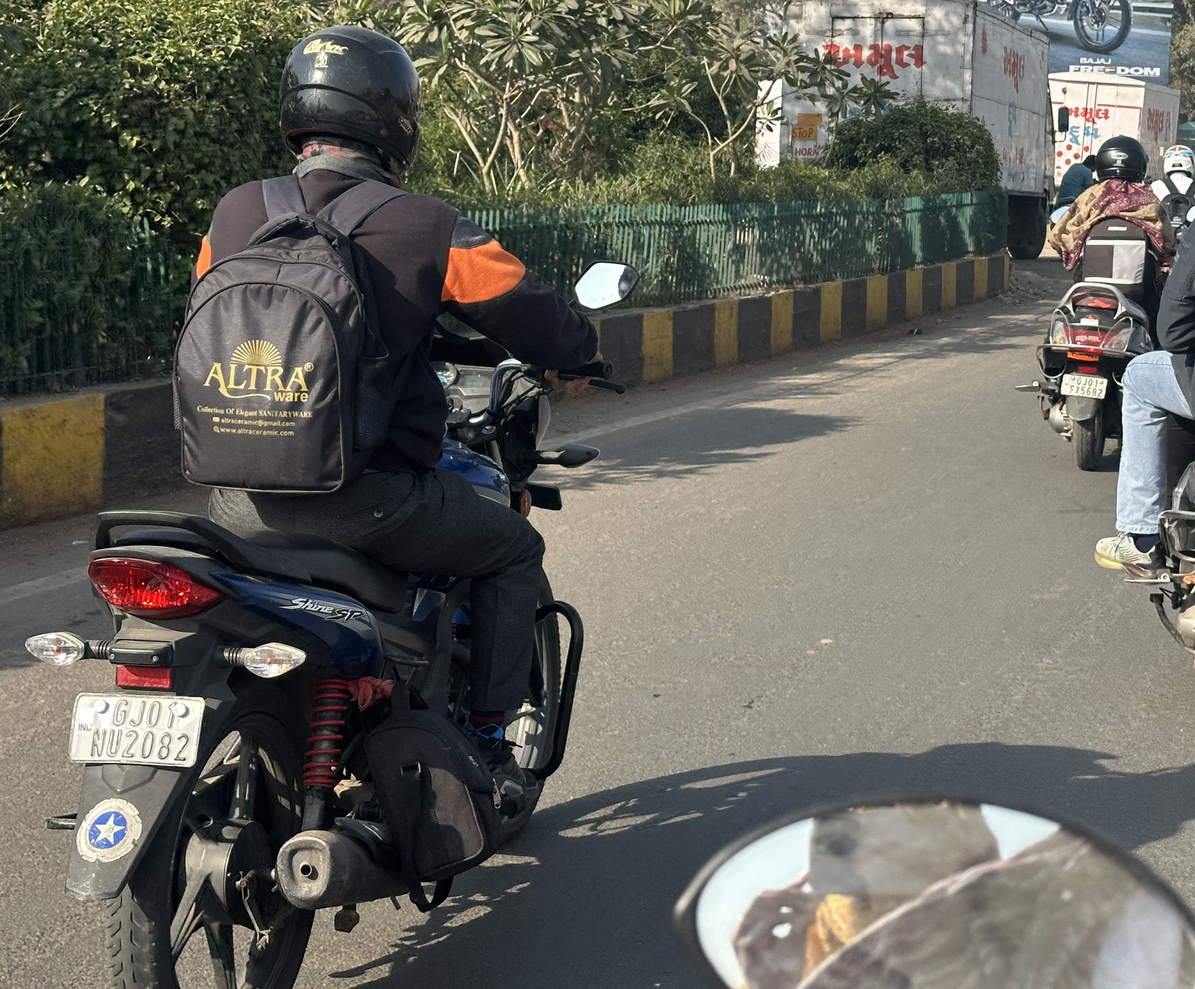BikeWithRider: (15, 22, 648, 989), (1012, 130, 1163, 480), (1154, 139, 1195, 254)
Helmet: (270, 22, 426, 188), (1093, 132, 1149, 185), (1160, 143, 1195, 181)
